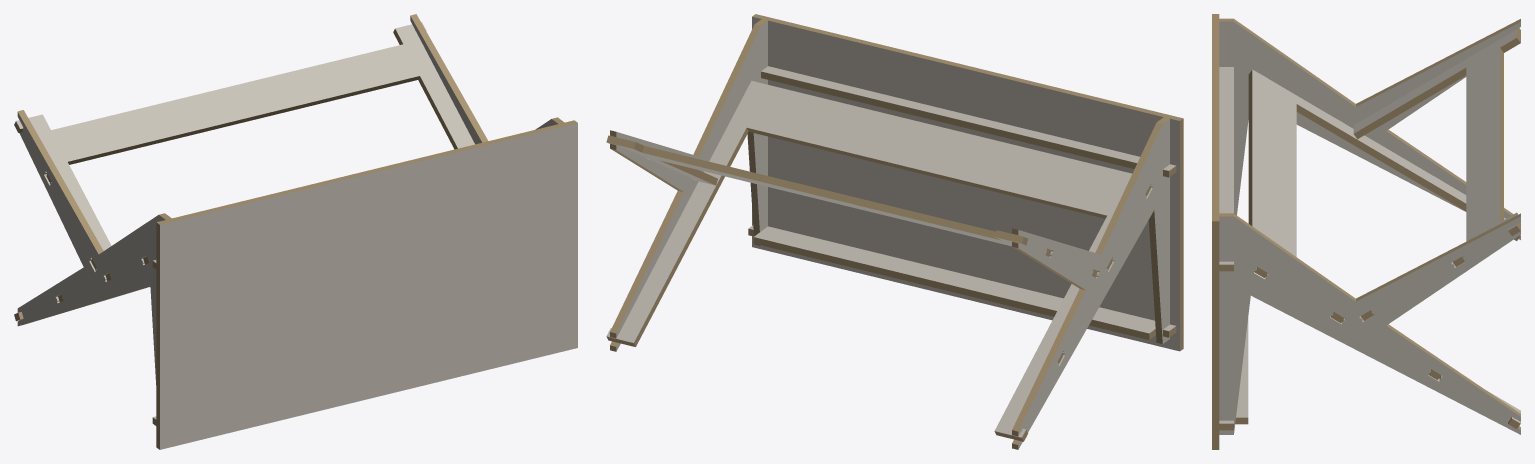
Rendered from NODO_ESCRITORIO_ESCULTORICO_KIRI_FINAL_TAPA_OK.glb.
The picture shows the model from 3 angles, left to right: view 1: azimuth 30°, elevation 25°; view 2: azimuth 150°, elevation 25°; view 3: azimuth 270°, elevation 25°; orthographic projection. The views are drawn at different scales.
Parts seen in each view (by area): view 1: G_Tapa_Superior_CARAS_COLOR_REAL, B_Escuadra_Trasera_cuerpo, D_Lateral_Izq_cuerpo, G_Tapa_Superior_CANTO_MDF, B_Escuadra_Trasera_canto, D_Lateral_Izq_canto, C_Lateral_Der_canto, C_Lateral_Der_cuerpo; view 2: G_Tapa_Superior_CARAS_COLOR_REAL, A_Escuadra_Delantera_cuerpo, D_Lateral_Izq_cuerpo, C_Lateral_Der_cuerpo, F_Traba_Delantera_cuerpo, B_Escuadra_Trasera_canto, D_Lateral_Izq_canto, C_Lateral_Der_canto, E_Traba_Trasera_cuerpo, A_Escuadra_Delantera_canto, E_Traba_Trasera_canto, F_Traba_Delantera_canto (+2 smaller); view 3: C_Lateral_Der_cuerpo, D_Lateral_Izq_cuerpo, A_Escuadra_Delantera_cuerpo, B_Escuadra_Trasera_cuerpo, G_Tapa_Superior_CANTO_MDF, A_Escuadra_Delantera_canto, E_Traba_Trasera_cuerpo, B_Escuadra_Trasera_canto, C_Lateral_Der_canto, D_Lateral_Izq_canto, F_Traba_Delantera_cuerpo.
Part boxes in pixels (x1,y1,x2,y2): G_Tapa_Superior_CARAS_COLOR_REAL: (160, 123, 577, 449); B_Escuadra_Trasera_cuerpo: (16, 22, 474, 250); D_Lateral_Izq_cuerpo: (17, 112, 165, 384); G_Tapa_Superior_CANTO_MDF: (156, 120, 577, 449); B_Escuadra_Trasera_canto: (14, 29, 457, 269); D_Lateral_Izq_canto: (17, 110, 171, 325); C_Lateral_Der_canto: (410, 14, 564, 142); C_Lateral_Der_cuerpo: (410, 16, 557, 144); G_Tapa_Superior_CARAS_COLOR_REAL: (752, 16, 1179, 351); A_Escuadra_Delantera_cuerpo: (606, 80, 1131, 437); D_Lateral_Izq_cuerpo: (1018, 119, 1169, 449); C_Lateral_Der_cuerpo: (616, 21, 767, 351); F_Traba_Delantera_cuerpo: (749, 225, 1175, 333); B_Escuadra_Trasera_canto: (606, 135, 1097, 277); D_Lateral_Izq_canto: (1012, 117, 1169, 449); C_Lateral_Der_canto: (610, 19, 767, 351); E_Traba_Trasera_cuerpo: (761, 66, 1175, 170); A_Escuadra_Delantera_canto: (606, 128, 1150, 441); E_Traba_Trasera_canto: (761, 71, 1176, 177); F_Traba_Delantera_canto: (748, 228, 1176, 339); C_Lateral_Der_cuerpo: (1219, 216, 1520, 434); D_Lateral_Izq_cuerpo: (1219, 21, 1520, 239); A_Escuadra_Delantera_cuerpo: (1252, 69, 1520, 423); B_Escuadra_Trasera_cuerpo: (1353, 29, 1516, 241); G_Tapa_Superior_CANTO_MDF: (1212, 14, 1219, 449); A_Escuadra_Delantera_canto: (1248, 70, 1520, 428); E_Traba_Trasera_cuerpo: (1219, 67, 1233, 264); B_Escuadra_Trasera_canto: (1354, 28, 1520, 320); C_Lateral_Der_canto: (1219, 213, 1520, 429); D_Lateral_Izq_canto: (1219, 18, 1520, 215); F_Traba_Delantera_cuerpo: (1219, 318, 1248, 423).
Size of what is drawn, in the model's own units: 1.22 by 0.628 by 0.7681.
